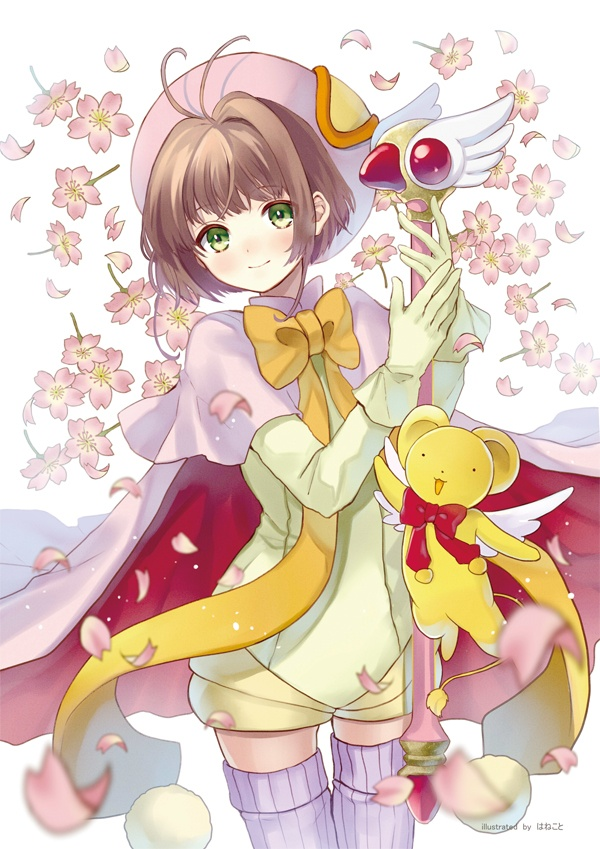纸片人正脸: (141, 92, 359, 298)
